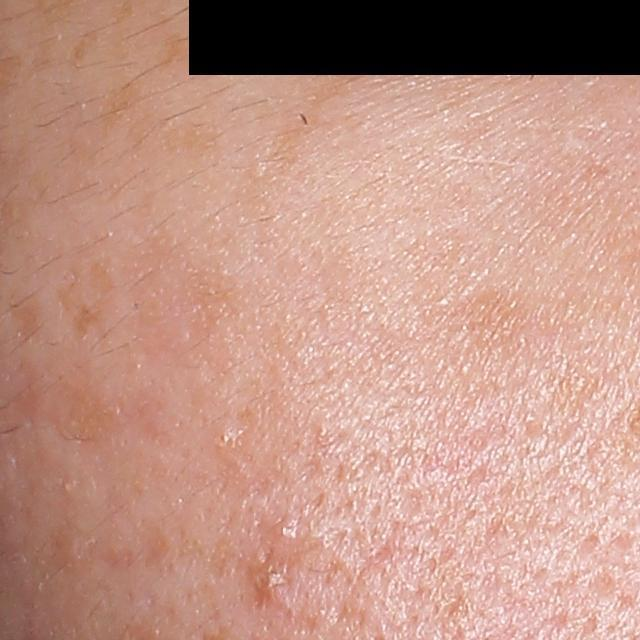comedo: (273, 515, 297, 541)
melasma: (264, 21, 373, 170), (458, 285, 535, 356), (58, 282, 102, 333), (63, 25, 107, 70), (156, 26, 204, 66), (98, 77, 138, 123), (7, 299, 43, 344)
